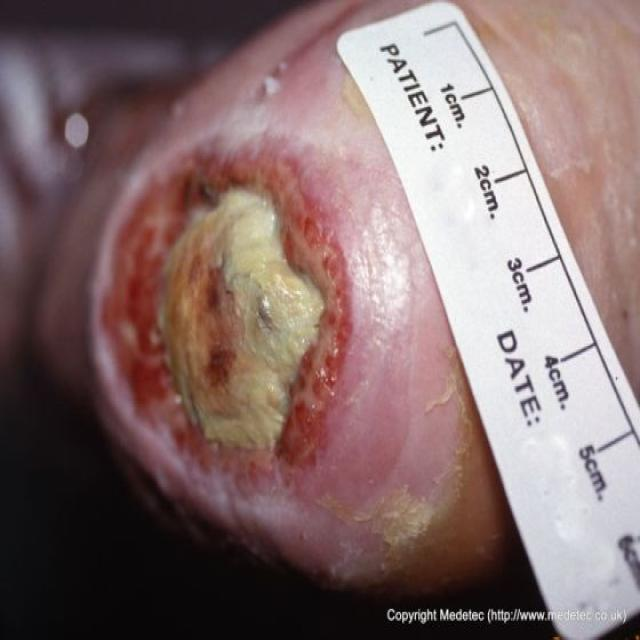stage-4: (101, 158, 349, 492)
